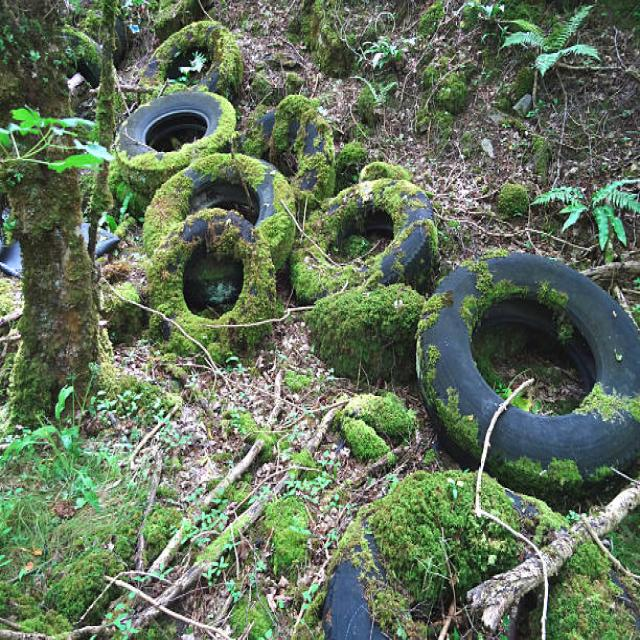tire: (414, 251, 639, 487), (321, 468, 571, 638), (289, 174, 438, 303), (149, 204, 272, 352), (150, 159, 302, 277), (108, 86, 236, 218), (143, 18, 243, 99)
